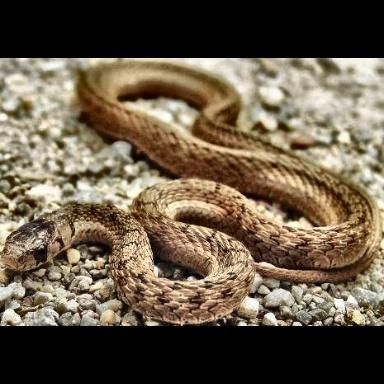snake: (0, 63, 383, 321)
